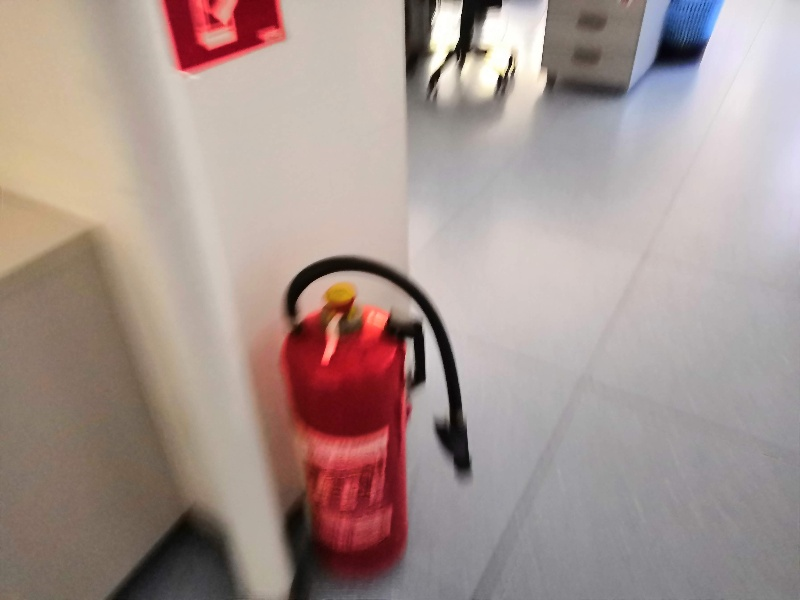vataparat: (284, 256, 473, 579)
